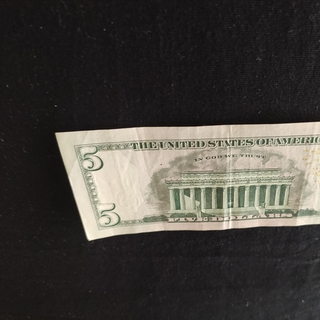5USDBack: (54, 119, 320, 242)
